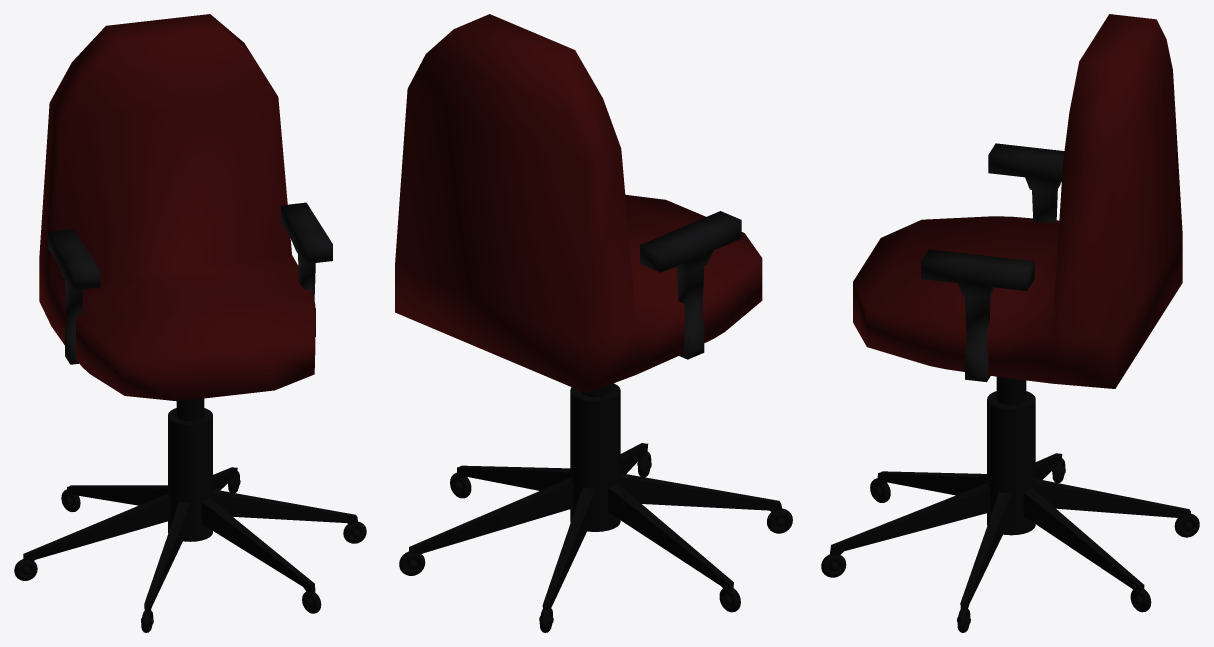
The model's file is Silla.fbx.
3 renders of one model, left to right at view 1: azimuth 30°, elevation 25°; view 2: azimuth 150°, elevation 25°; view 3: azimuth 270°, elevation 25°, orthographic. The views are drawn at different scales.
Visible parts, largest first — view 1: Silla; view 2: Silla; view 3: Silla.
Part boxes in pixels (x1,y1,x2,y2): Silla: [14, 14, 366, 632]; Silla: [395, 14, 792, 632]; Silla: [821, 14, 1199, 632].
Size of the model in its own units: 71.06 by 109 by 70.92.
